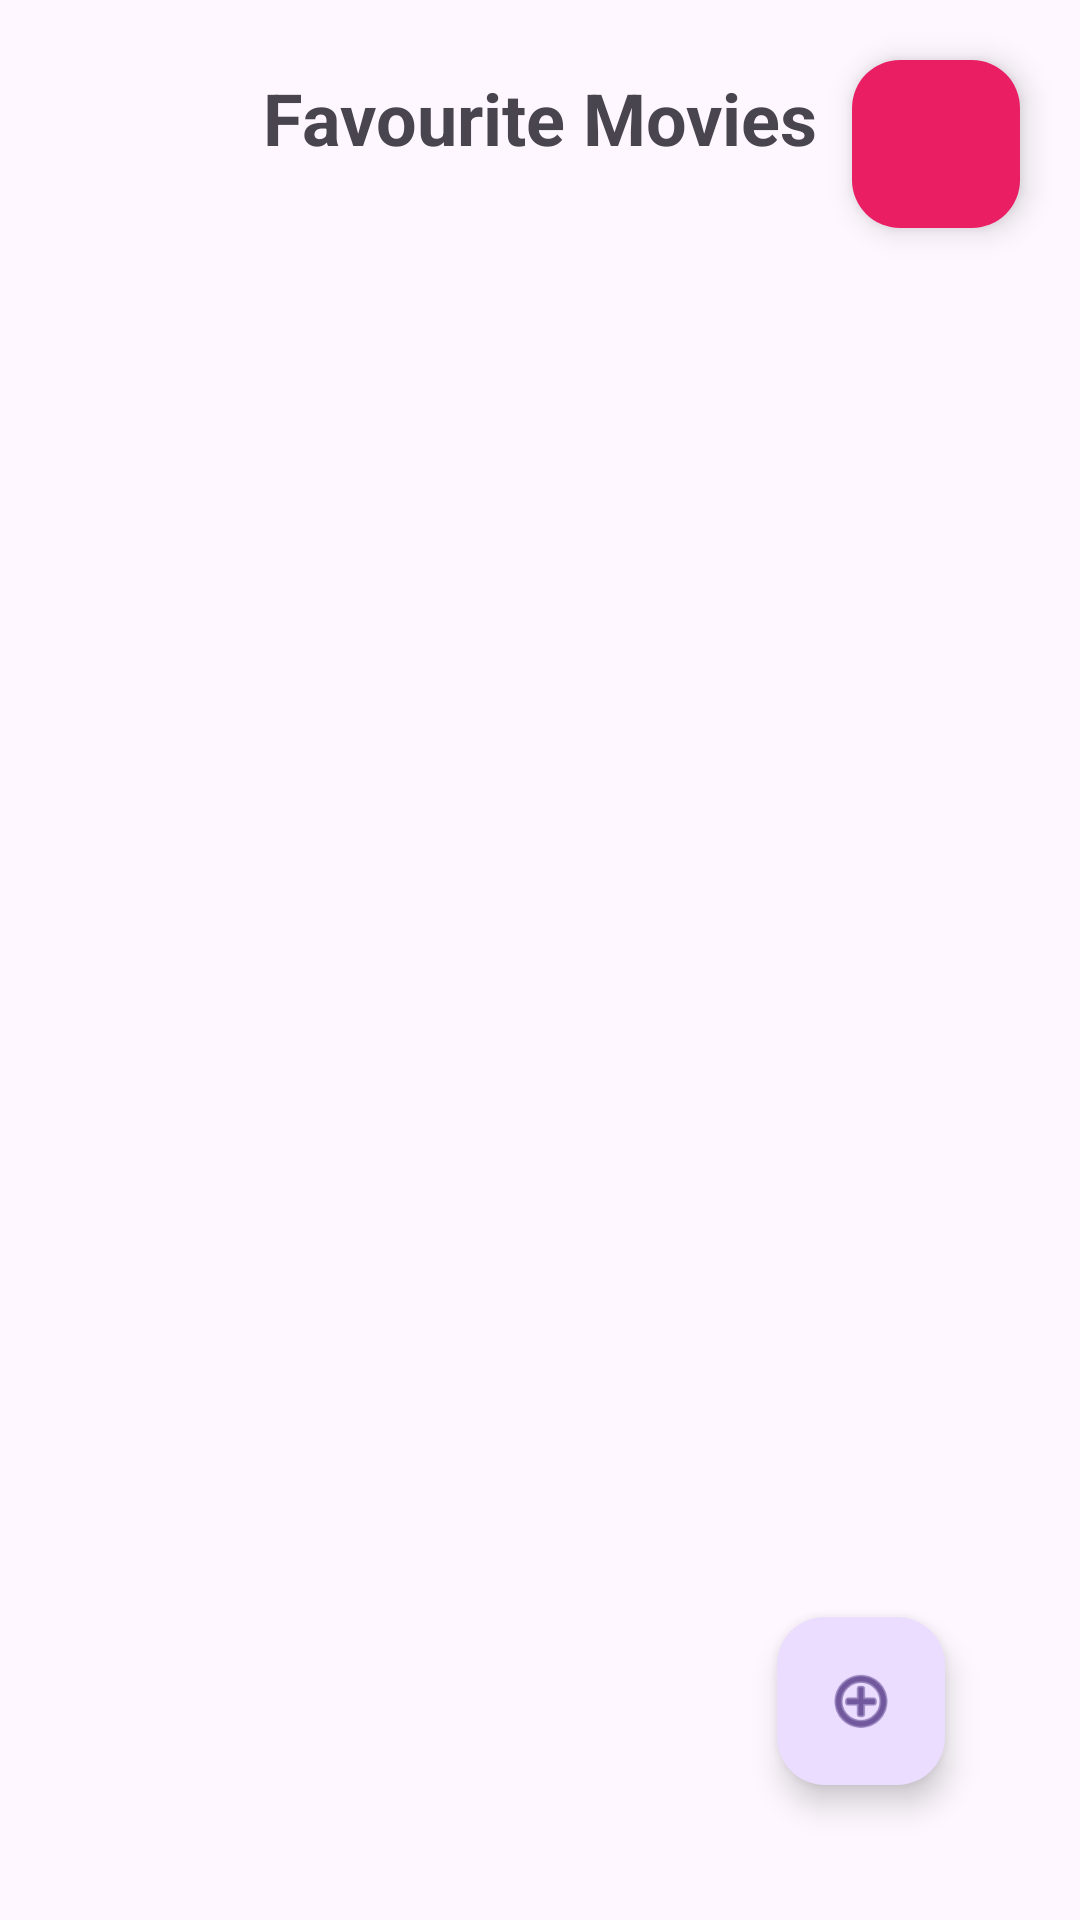

Named icons in this screenshot (1080x1920) and their centers, [x,y]:
add: [861,1701]
